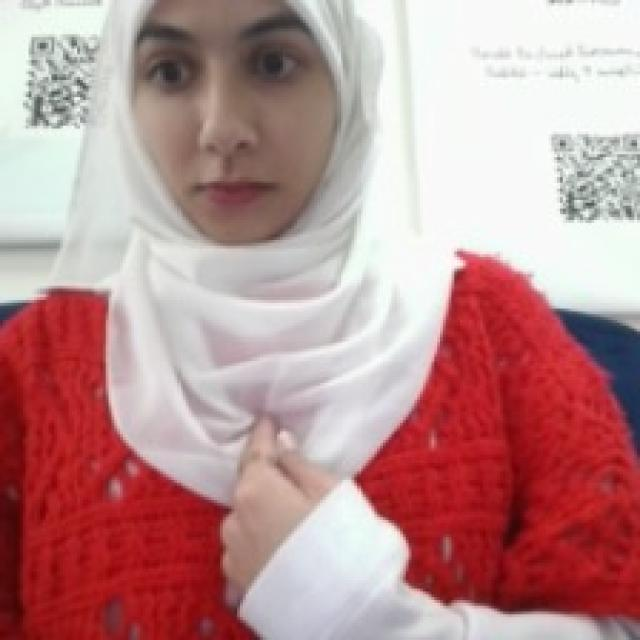me: (209, 407, 350, 600)
